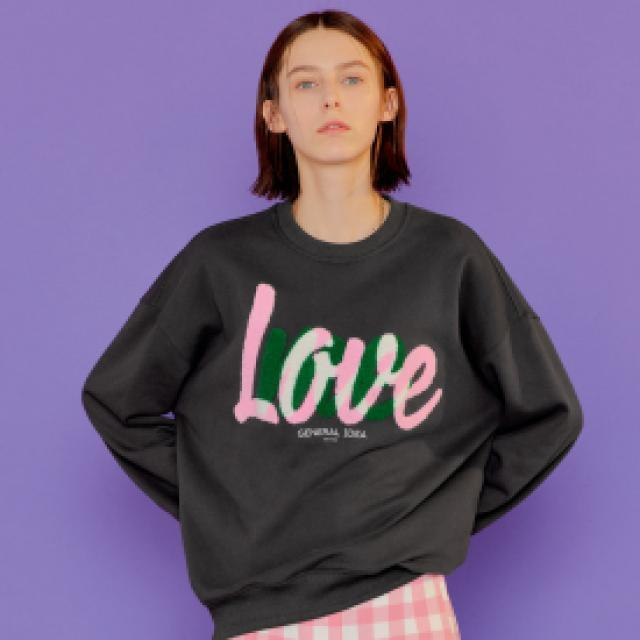sweater: (79, 193, 584, 640)
